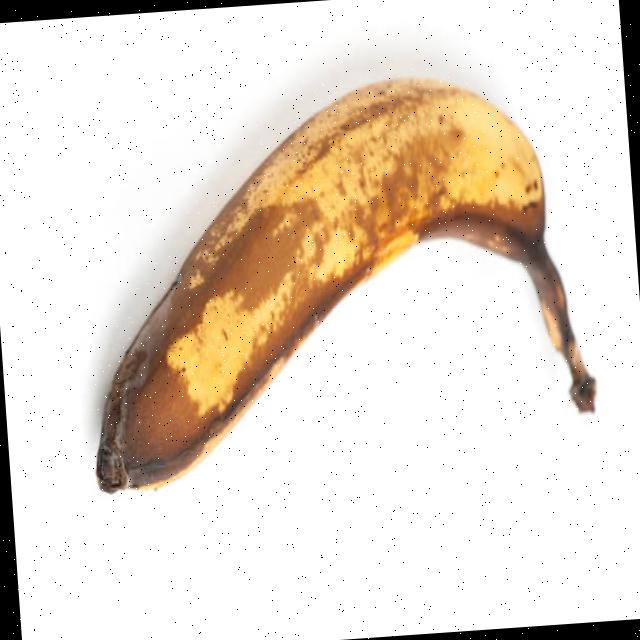overripe: (63, 66, 604, 501)
